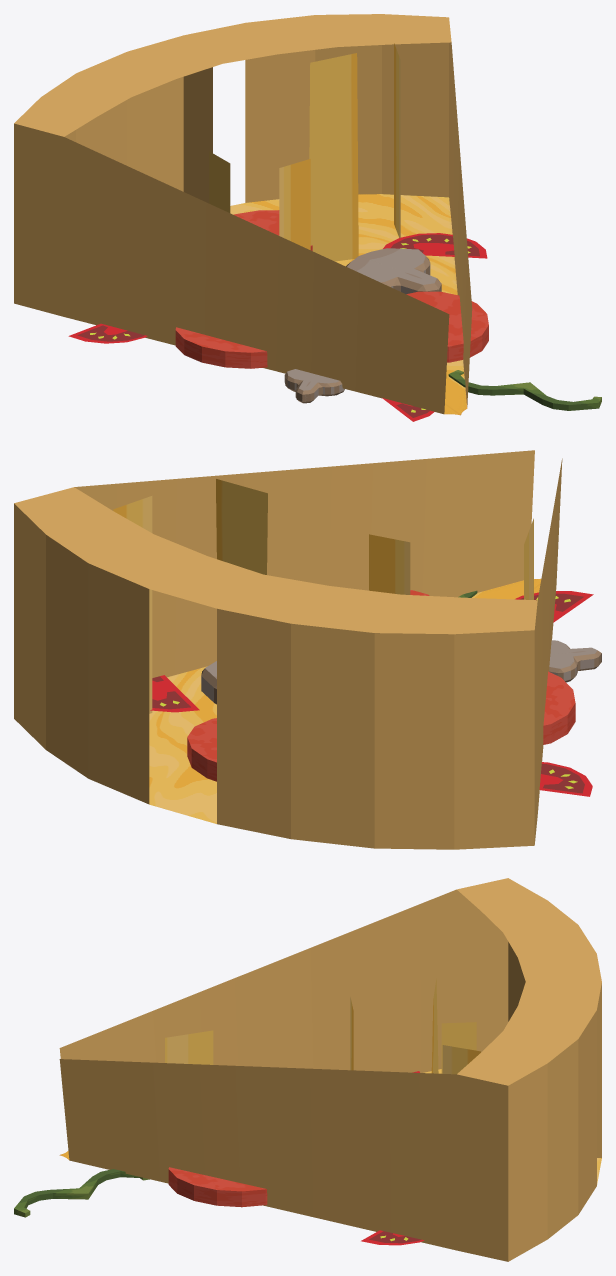
The model's file is pizzaMaze.fbx.
3 renders of one model, top to bottom at view 1: azimuth 30°, elevation 25°; view 2: azimuth 150°, elevation 25°; view 3: azimuth 270°, elevation 25°, orthographic. The views are drawn at different scales.
Visible parts, largest first — view 1: Cube, Cube.005, Cube.004, Cube.001, Cube.007, Circle.001, Circle.002, Plane.002, Circle.004, Cube.002, Cube.006, Cube.008 (+2 smaller); view 2: Cube, Cube.005, Cube.007, Circle.001, Circle, Cube.002, Circle.003, Cube.006, Circle.004, Circle.005, Cube.003; view 3: Cube, Circle.002, Cube.003, Plane.002, Cube.008, Cube.004, Cube.006, Circle.004.
Boxes of the visible parts, box(x1,y1,x2,y2) form: Cube: box(14, 14, 472, 415); Cube.005: box(309, 53, 358, 261); Cube.004: box(183, 67, 212, 203); Cube.001: box(346, 248, 441, 294); Cube.007: box(279, 159, 310, 249); Circle.001: box(175, 327, 267, 368); Circle.002: box(406, 291, 488, 362); Plane.002: box(448, 370, 601, 410); Circle.004: box(383, 233, 487, 258); Cube.002: box(284, 369, 344, 403); Cube.006: box(394, 43, 400, 237); Cube.008: box(209, 151, 230, 212); Cube: box(14, 450, 562, 849); Cube.005: box(216, 479, 267, 574); Cube.007: box(369, 534, 410, 594); Circle.001: box(543, 671, 575, 744); Circle: box(187, 718, 216, 781); Cube.002: box(549, 640, 601, 682); Circle.003: box(539, 762, 592, 796); Cube.006: box(113, 496, 152, 713); Circle.004: box(150, 675, 199, 712); Circle.005: box(515, 591, 593, 622); Cube.003: box(524, 518, 533, 599); Cube: box(59, 878, 601, 1261); Circle.002: box(168, 1167, 267, 1207); Cube.003: box(165, 1030, 213, 1064); Plane.002: box(14, 1169, 149, 1217); Cube.008: box(441, 1022, 476, 1073); Cube.004: box(597, 983, 601, 1157); Cube.006: box(442, 1045, 480, 1074); Circle.004: box(361, 1230, 424, 1245).
Size of the model in its own units: 364 by 166 by 435.
9 materials, 4 textured.
